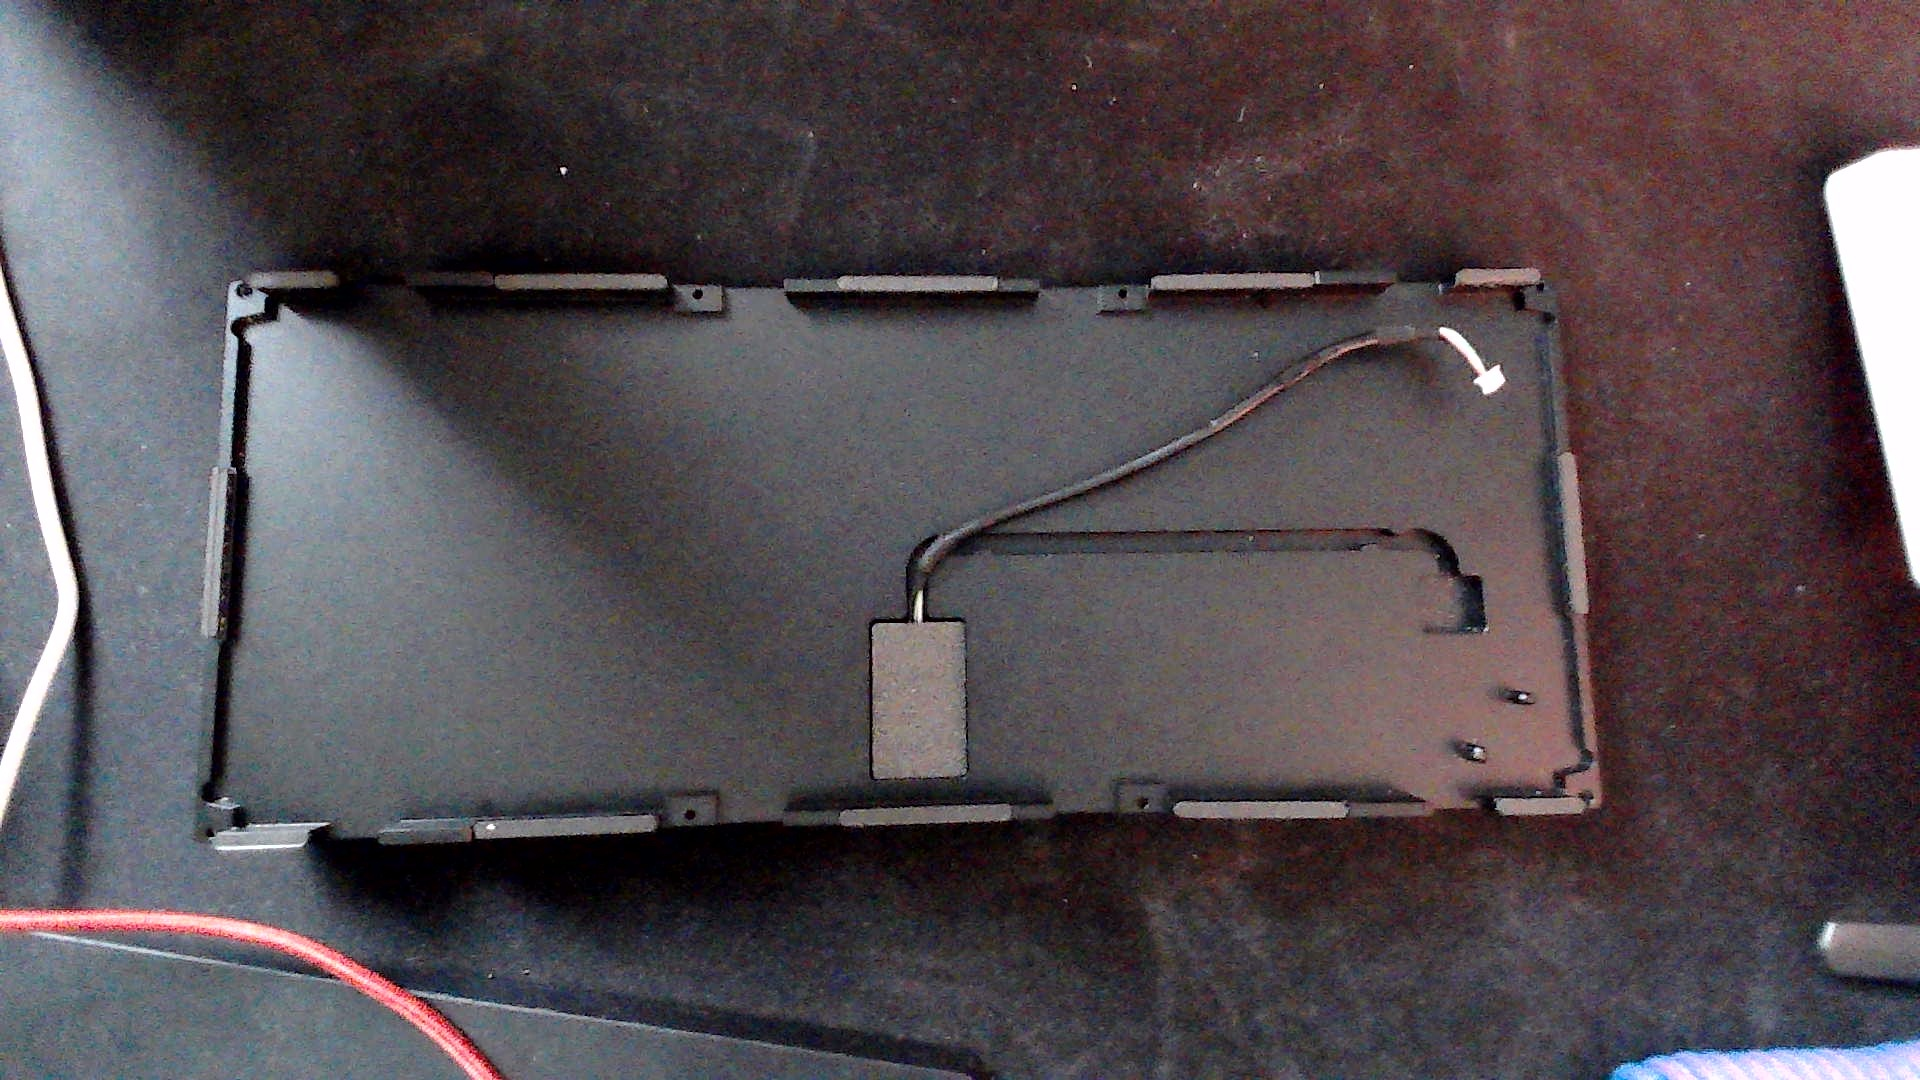case: (148, 206, 1621, 877)
